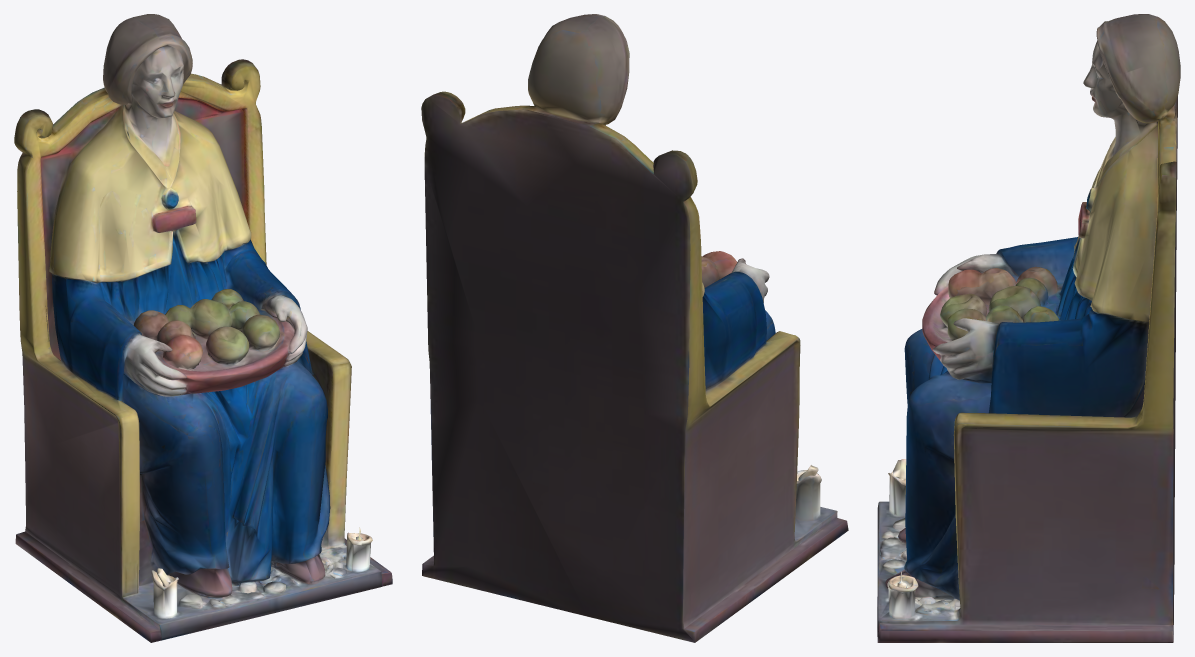
Rendered from nehalennia.lean.glb.
3 renders of one model, left to right at view 1: azimuth 30°, elevation 25°; view 2: azimuth 150°, elevation 25°; view 3: azimuth 270°, elevation 25°, orthographic. The views are drawn at different scales.
Parts seen in each view (by area): view 1: node_0; view 2: node_0; view 3: node_0.
Boxes of the visible parts, left/top/right/bottom form: node_0: left=14, top=14, right=392, bottom=642; node_0: left=421, top=14, right=848, bottom=642; node_0: left=877, top=14, right=1180, bottom=642.
Bounding box in the file's own units: 0.4894 × 0.9823 × 0.4855.
1 material, 1 textured.
